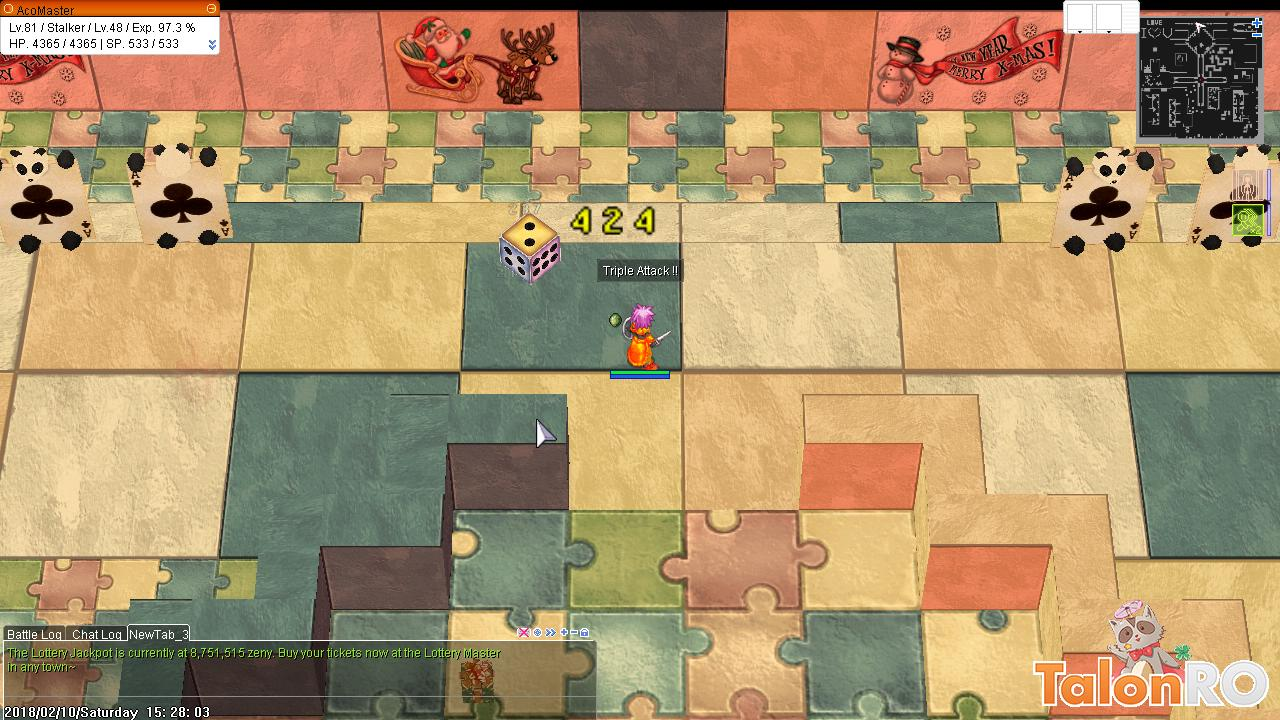loot: (604, 307, 623, 330)
